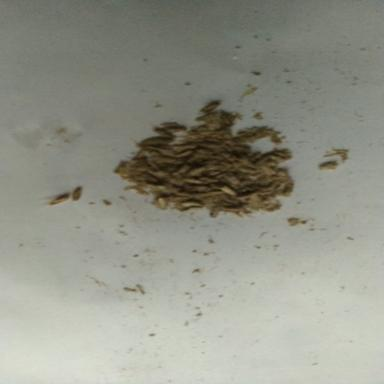pbw: (140, 136, 171, 144), (222, 171, 238, 184), (196, 112, 219, 121), (150, 197, 167, 209), (126, 186, 148, 195), (184, 186, 213, 192), (49, 195, 68, 204), (220, 152, 237, 162), (151, 156, 175, 163), (172, 144, 196, 151), (167, 178, 188, 186), (220, 185, 236, 195), (202, 103, 219, 112), (262, 166, 277, 176), (155, 129, 173, 137), (266, 154, 286, 161), (72, 186, 81, 201), (174, 165, 189, 174), (204, 164, 226, 170), (163, 126, 185, 132), (192, 143, 224, 147), (190, 167, 206, 175), (208, 207, 219, 218), (184, 178, 204, 184), (284, 182, 293, 195), (174, 192, 190, 199), (273, 151, 289, 158), (195, 149, 213, 155), (255, 155, 267, 164), (198, 177, 219, 182), (237, 167, 254, 173), (231, 146, 248, 152), (222, 115, 232, 125), (176, 150, 192, 156), (205, 137, 221, 143), (225, 207, 245, 211), (198, 160, 217, 164), (251, 152, 260, 160), (161, 122, 177, 126)
